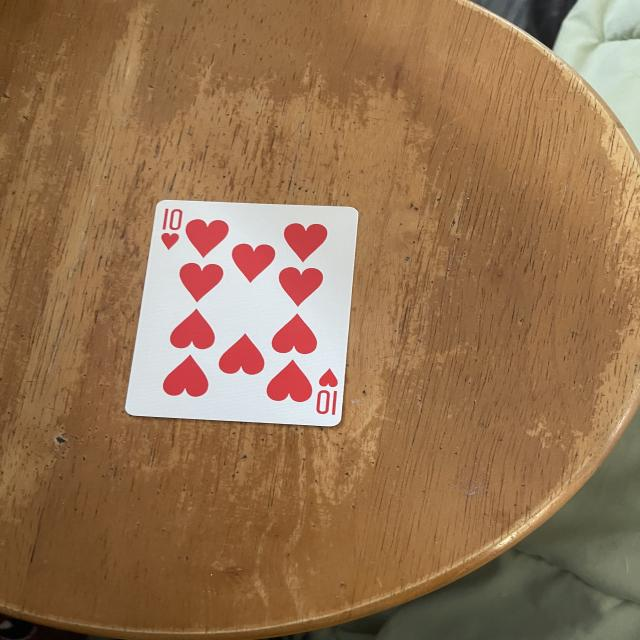10 of hearts: (124, 199, 358, 426)
